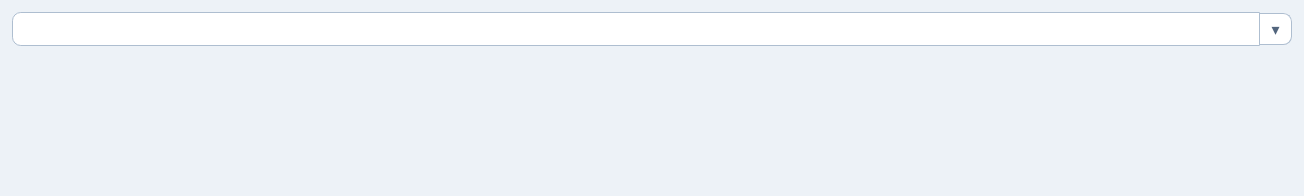
Test: uses the list controls to rename and delete custom options when fixed choices exist
The image size is (1304, 196).
Later steps or results of the test are not shown.
Click the button named "Показать сохранённые варианты: Показание" at x=1276, y=29, box [1260,13,1292,45]
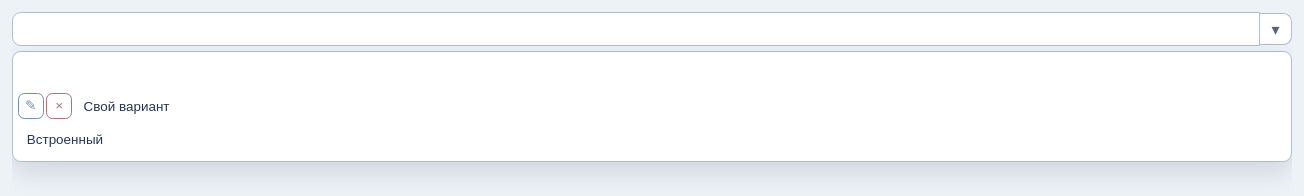
Expected: the button "Свой вариант" is shown, [75,90,1276,122]
